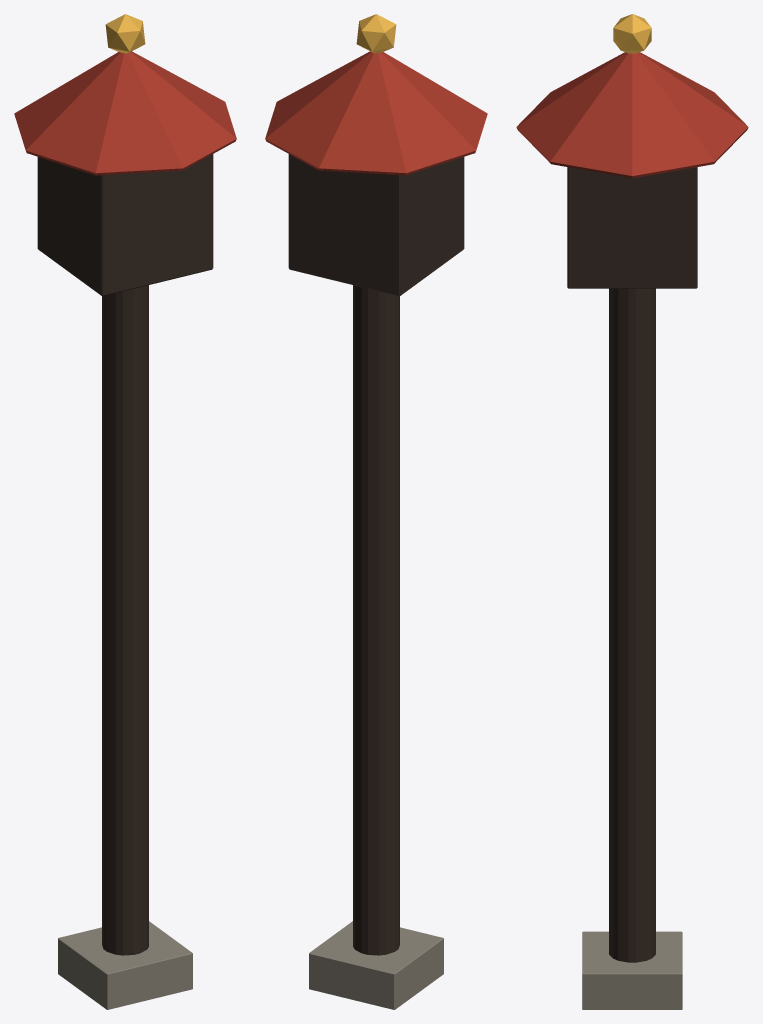
File: lantern.glb
3 renders of one model, left to right at view 1: azimuth 30°, elevation 25°; view 2: azimuth 150°, elevation 25°; view 3: azimuth 270°, elevation 25°, orthographic.
Visible parts, largest first — view 1: l_post, l_box, l_cap, l_foot, l_tip; view 2: l_post, l_box, l_cap, l_foot, l_tip; view 3: l_post, l_cap, l_box, l_foot, l_tip.
Boxes of the visible parts, box(x1,y1,x2,y2) form: l_post: box(102, 285, 148, 955); l_box: box(37, 154, 213, 296); l_cap: box(14, 51, 236, 175); l_foot: box(58, 921, 192, 1009); l_tip: box(105, 14, 145, 53); l_post: box(353, 285, 399, 955); l_box: box(288, 154, 464, 296); l_cap: box(265, 51, 487, 175); l_foot: box(309, 921, 443, 1009); l_tip: box(356, 14, 396, 53); l_post: box(609, 288, 655, 962); l_cap: box(516, 52, 748, 178); l_box: box(567, 167, 697, 288); l_foot: box(582, 931, 682, 1009); l_tip: box(613, 14, 651, 53).
Size of the model in its own units: 0.4632 by 2.14 by 0.4632.
